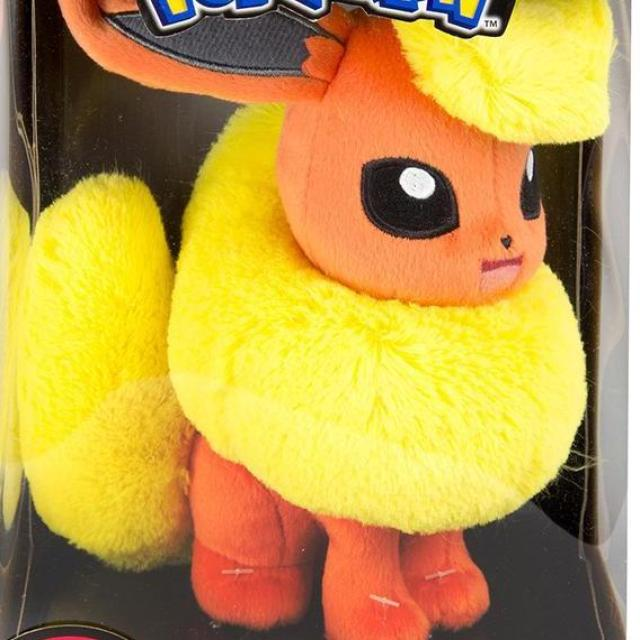Flareon: (157, 31, 555, 640)
